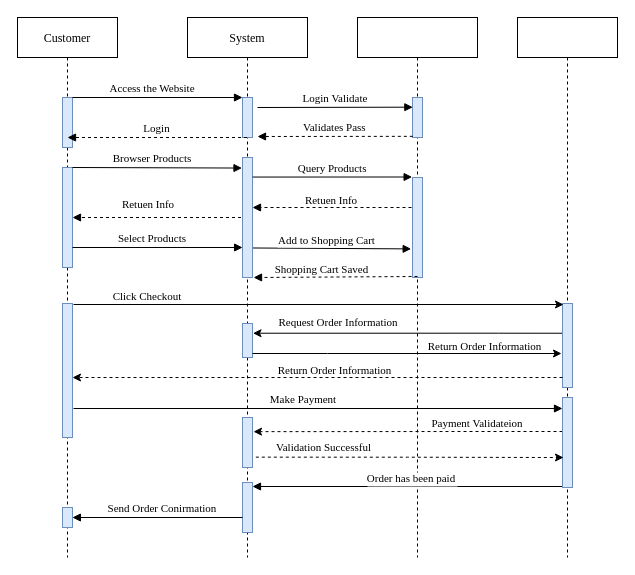
Some shapes in this 635 by 575 pixel diagram are drawn without their labels. Each missing label, with the box of its shape:
Checkout: (516, 16, 618, 558)
Database: (356, 16, 478, 558)
